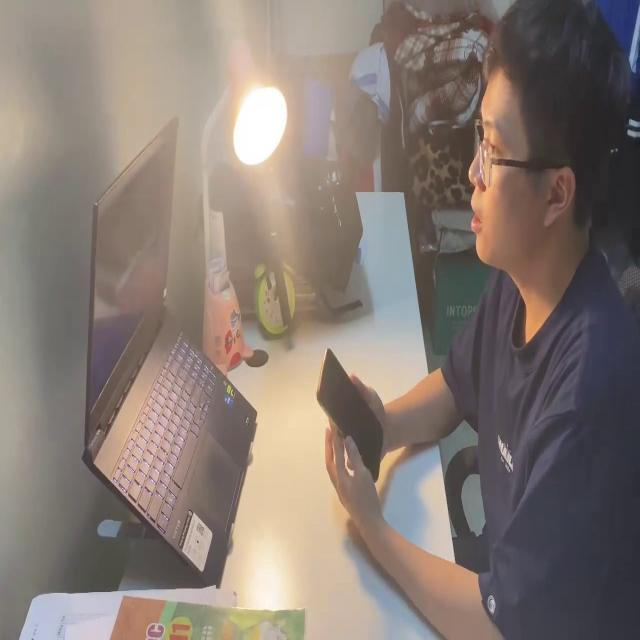book: (18, 586, 304, 640)
laptop: (75, 110, 259, 587), (314, 342, 384, 489)
student: (313, 0, 640, 640)
